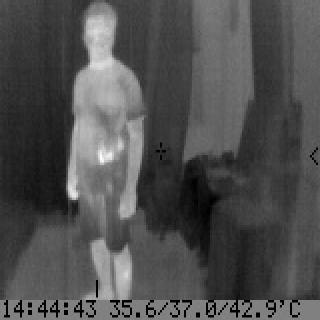Gun: (96, 135, 132, 203)
